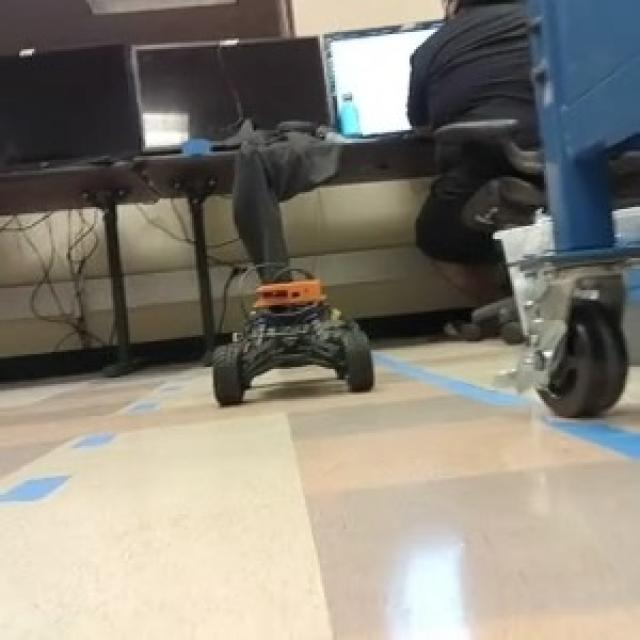obstacle: (205, 276, 382, 412)
